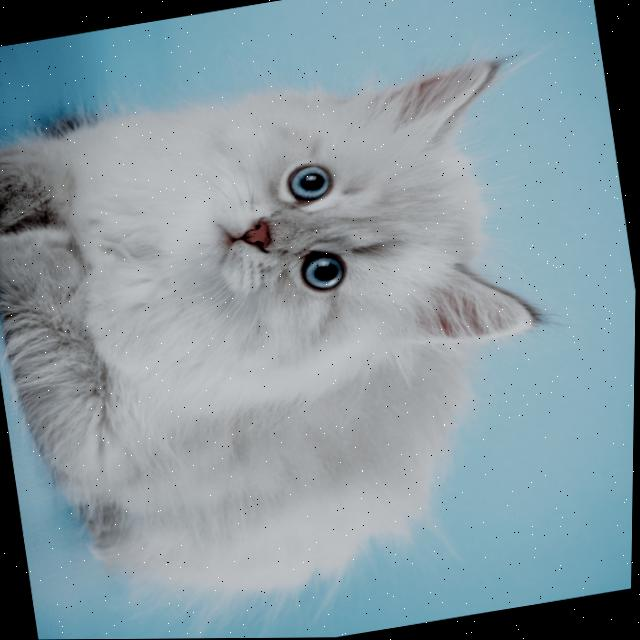Neva Masquerade: (0, 42, 592, 638)
